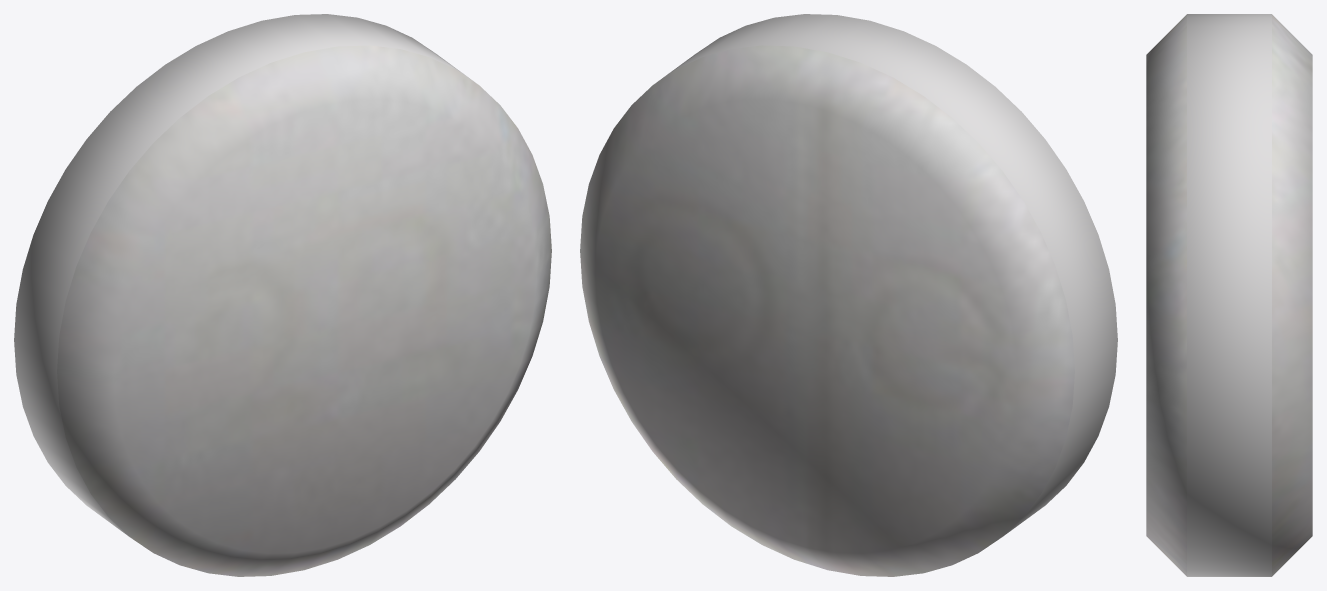
The model's file is 20140311GOPHDRGPT02257.fbx.
3 views of the same model, side by side, from view 1: azimuth 30°, elevation 25°; view 2: azimuth 150°, elevation 25°; view 3: azimuth 270°, elevation 25° (orthographic).
Visible parts, largest first — view 1: 貝茲圓.002; view 2: 貝茲圓.002; view 3: 貝茲圓.002.
Boxes of the visible parts, x1=… form: 貝茲圓.002: x1=14, y1=14, x2=551, y2=576; 貝茲圓.002: x1=580, y1=14, x2=1117, y2=576; 貝茲圓.002: x1=1146, y1=14, x2=1312, y2=576.
Bounding box in the file's own units: 0.4945 × 0.4945 × 0.1462.
